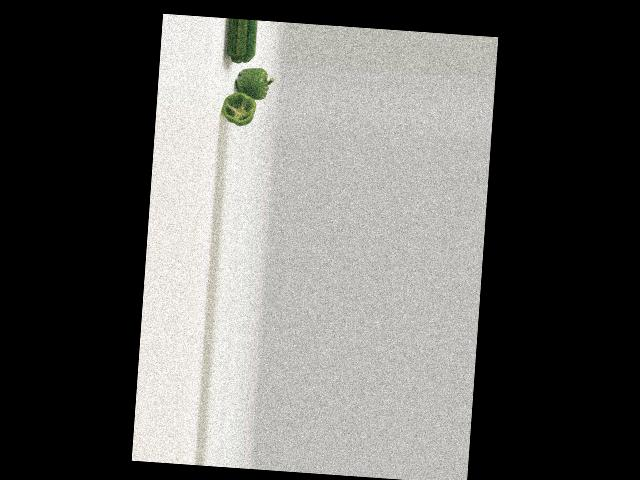bell_pepper: (218, 89, 260, 128)
